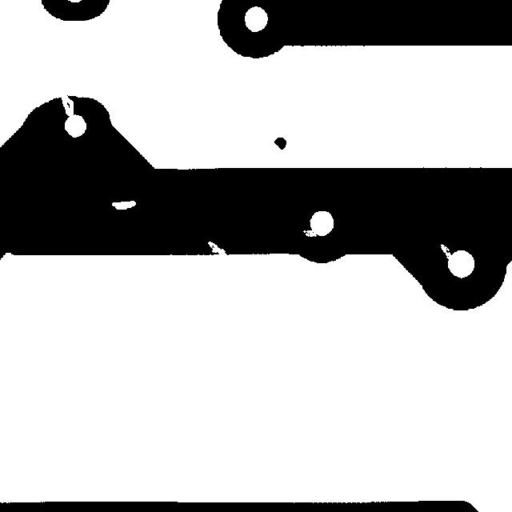copper: (266, 130, 294, 157)
mousebite: (433, 236, 463, 276), (200, 234, 235, 264), (295, 222, 326, 244)
open: (53, 84, 81, 124)
pin-hole: (104, 193, 143, 217)
